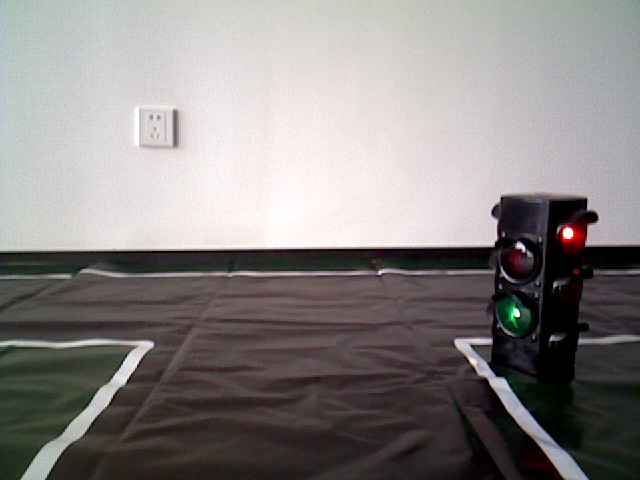red: (496, 197, 581, 367)
